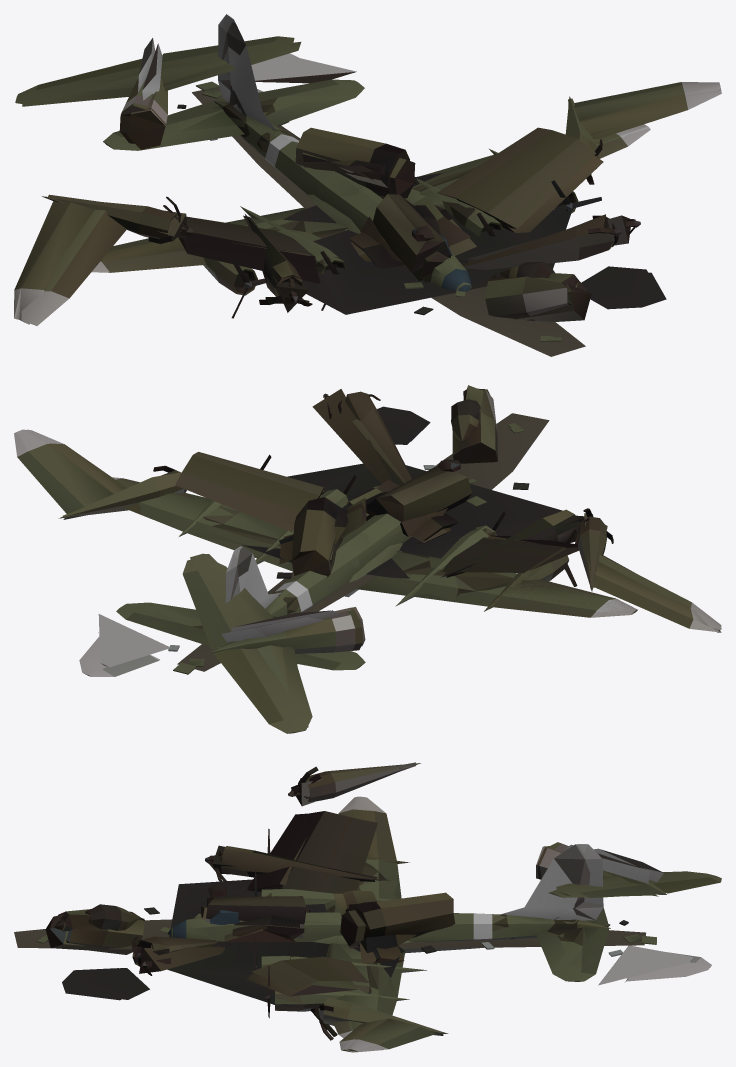
Rendered from plane_ww2_bomber_fractured.glb.
The picture shows the model from 3 angles, top to bottom: view 1: azimuth 30°, elevation 25°; view 2: azimuth 150°, elevation 25°; view 3: azimuth 270°, elevation 25°; orthographic projection. The views are drawn at different scales.
Visible parts, largest first — view 1: plane_ww2_bomber_RUIN_LOD0_mesh, plane_ww2_bomber_RUIN_LOD2_mesh, plane_ww2_bomber_RUIN_LOD1_mesh, plane_ww2_bomber_DMG_mesh, plane_ww2_bomber_RUIN_LOD0_loose_wing_r_mesh, plane_ww2_bomber_RUIN_LOD1_loose_wing_r_mesh, plane_ww2_bomber_DMG_wing_r_mesh, plane_ww2_bomber_RUIN_LOD0_loose_wing_l_mesh, plane_ww2_bomber_RUIN_LOD1_loose_wing_l_mesh, plane_ww2_bomber_FRAC_25_mesh, plane_ww2_bomber_FRAC_14_mesh, plane_ww2_bomber_FRAC_23_mesh (+7 smaller); view 2: plane_ww2_bomber_RUIN_LOD0_mesh, plane_ww2_bomber_DMG_mesh, plane_ww2_bomber_RUIN_LOD2_mesh, plane_ww2_bomber_RUIN_LOD1_mesh, plane_ww2_bomber_RUIN_LOD0_loose_wing_l_mesh, plane_ww2_bomber_RUIN_LOD0_loose_wing_r_mesh, plane_ww2_bomber_DMG_wing_r_mesh, plane_ww2_bomber_FRAC_17_mesh, plane_ww2_bomber_FRAC_19_mesh, plane_ww2_bomber_FRAC_23_mesh, plane_ww2_bomber_RUIN_LOD1_loose_wing_r_mesh, plane_ww2_bomber_RUIN_LOD1_loose_wing_l_mesh (+9 smaller); view 3: plane_ww2_bomber_RUIN_LOD0_mesh, plane_ww2_bomber_RUIN_LOD2_mesh, plane_ww2_bomber_DMG_mesh, plane_ww2_bomber_RUIN_LOD1_mesh, plane_ww2_bomber_RUIN_LOD0_loose_wing_l_mesh, plane_ww2_bomber_FRAC_25_mesh, plane_ww2_bomber_RUIN_LOD0_loose_wing_r_mesh, plane_ww2_bomber_DMG_wing_r_mesh, plane_ww2_bomber_FRAC_19_mesh, plane_ww2_bomber_FRAC_00_mesh, plane_ww2_bomber_DMG_wing_l_mesh, plane_ww2_bomber_FRAC_09_mesh (+6 smaller).
Boxes of the visible parts, left/top/right/bottom form: plane_ww2_bomber_RUIN_LOD0_mesh: left=15, top=36, right=661, bottom=353; plane_ww2_bomber_RUIN_LOD2_mesh: left=127, top=49, right=628, bottom=356; plane_ww2_bomber_RUIN_LOD1_mesh: left=22, top=42, right=666, bottom=321; plane_ww2_bomber_DMG_mesh: left=103, top=14, right=502, bottom=291; plane_ww2_bomber_RUIN_LOD0_loose_wing_r_mesh: left=14, top=196, right=177, bottom=324; plane_ww2_bomber_RUIN_LOD1_loose_wing_r_mesh: left=21, top=194, right=186, bottom=325; plane_ww2_bomber_DMG_wing_r_mesh: left=91, top=237, right=257, bottom=295; plane_ww2_bomber_RUIN_LOD0_loose_wing_l_mesh: left=565, top=82, right=720, bottom=157; plane_ww2_bomber_RUIN_LOD1_loose_wing_l_mesh: left=568, top=89, right=721, bottom=156; plane_ww2_bomber_FRAC_25_mesh: left=229, top=45, right=282, bottom=146; plane_ww2_bomber_FRAC_14_mesh: left=163, top=88, right=254, bottom=148; plane_ww2_bomber_FRAC_23_mesh: left=303, top=186, right=378, bottom=233; plane_ww2_bomber_RUIN_LOD0_mesh: left=79, top=385, right=580, bottom=733; plane_ww2_bomber_DMG_mesh: left=118, top=495, right=517, bottom=669; plane_ww2_bomber_RUIN_LOD2_mesh: left=108, top=388, right=584, bottom=660; plane_ww2_bomber_RUIN_LOD1_mesh: left=98, top=389, right=584, bottom=727; plane_ww2_bomber_RUIN_LOD0_loose_wing_l_mesh: left=14, top=429, right=184, bottom=518; plane_ww2_bomber_RUIN_LOD0_loose_wing_r_mesh: left=577, top=516, right=721, bottom=632; plane_ww2_bomber_DMG_wing_r_mesh: left=484, top=555, right=637, bottom=617; plane_ww2_bomber_FRAC_17_mesh: left=485, top=562, right=636, bottom=616; plane_ww2_bomber_FRAC_19_mesh: left=115, top=479, right=221, bottom=536; plane_ww2_bomber_FRAC_23_mesh: left=355, top=532, right=429, bottom=575; plane_ww2_bomber_RUIN_LOD1_loose_wing_r_mesh: left=584, top=513, right=721, bottom=628; plane_ww2_bomber_RUIN_LOD1_loose_wing_l_mesh: left=26, top=429, right=186, bottom=519; plane_ww2_bomber_RUIN_LOD0_mesh: left=22, top=811, right=721, bottom=999; plane_ww2_bomber_RUIN_LOD2_mesh: left=14, top=845, right=658, bottom=1004; plane_ww2_bomber_DMG_mesh: left=167, top=844, right=610, bottom=993; plane_ww2_bomber_RUIN_LOD1_mesh: left=45, top=813, right=693, bottom=1000; plane_ww2_bomber_RUIN_LOD0_loose_wing_l_mesh: left=323, top=997, right=448, bottom=1051; plane_ww2_bomber_FRAC_25_mesh: left=505, top=859, right=578, bottom=938; plane_ww2_bomber_RUIN_LOD0_loose_wing_r_mesh: left=298, top=763, right=420, bottom=801; plane_ww2_bomber_DMG_wing_r_mesh: left=338, top=796, right=408, bottom=863; plane_ww2_bomber_FRAC_19_mesh: left=275, top=987, right=409, bottom=1032; plane_ww2_bomber_FRAC_00_mesh: left=538, top=936, right=600, bottom=970; plane_ww2_bomber_DMG_wing_l_mesh: left=275, top=991, right=404, bottom=1038; plane_ww2_bomber_FRAC_09_mesh: left=426, top=913, right=512, bottom=950.
Bounding box in the file's own units: 38.87 × 6.94 × 37.6.
